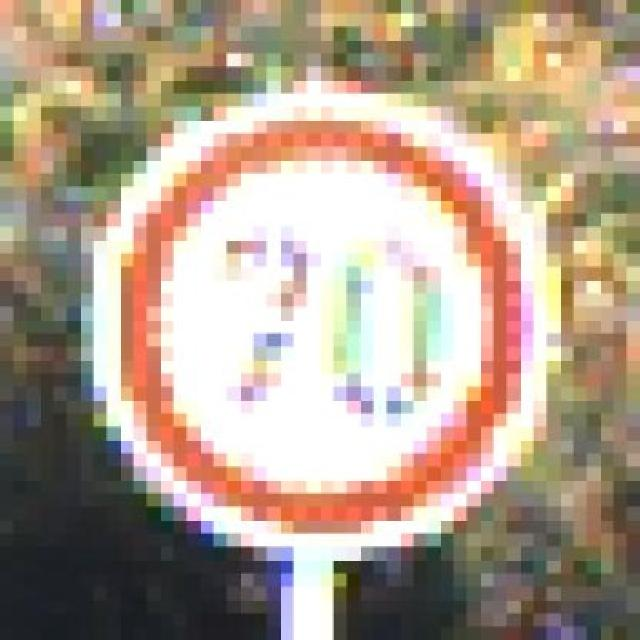forb_speed_over_70: (105, 95, 537, 542)
